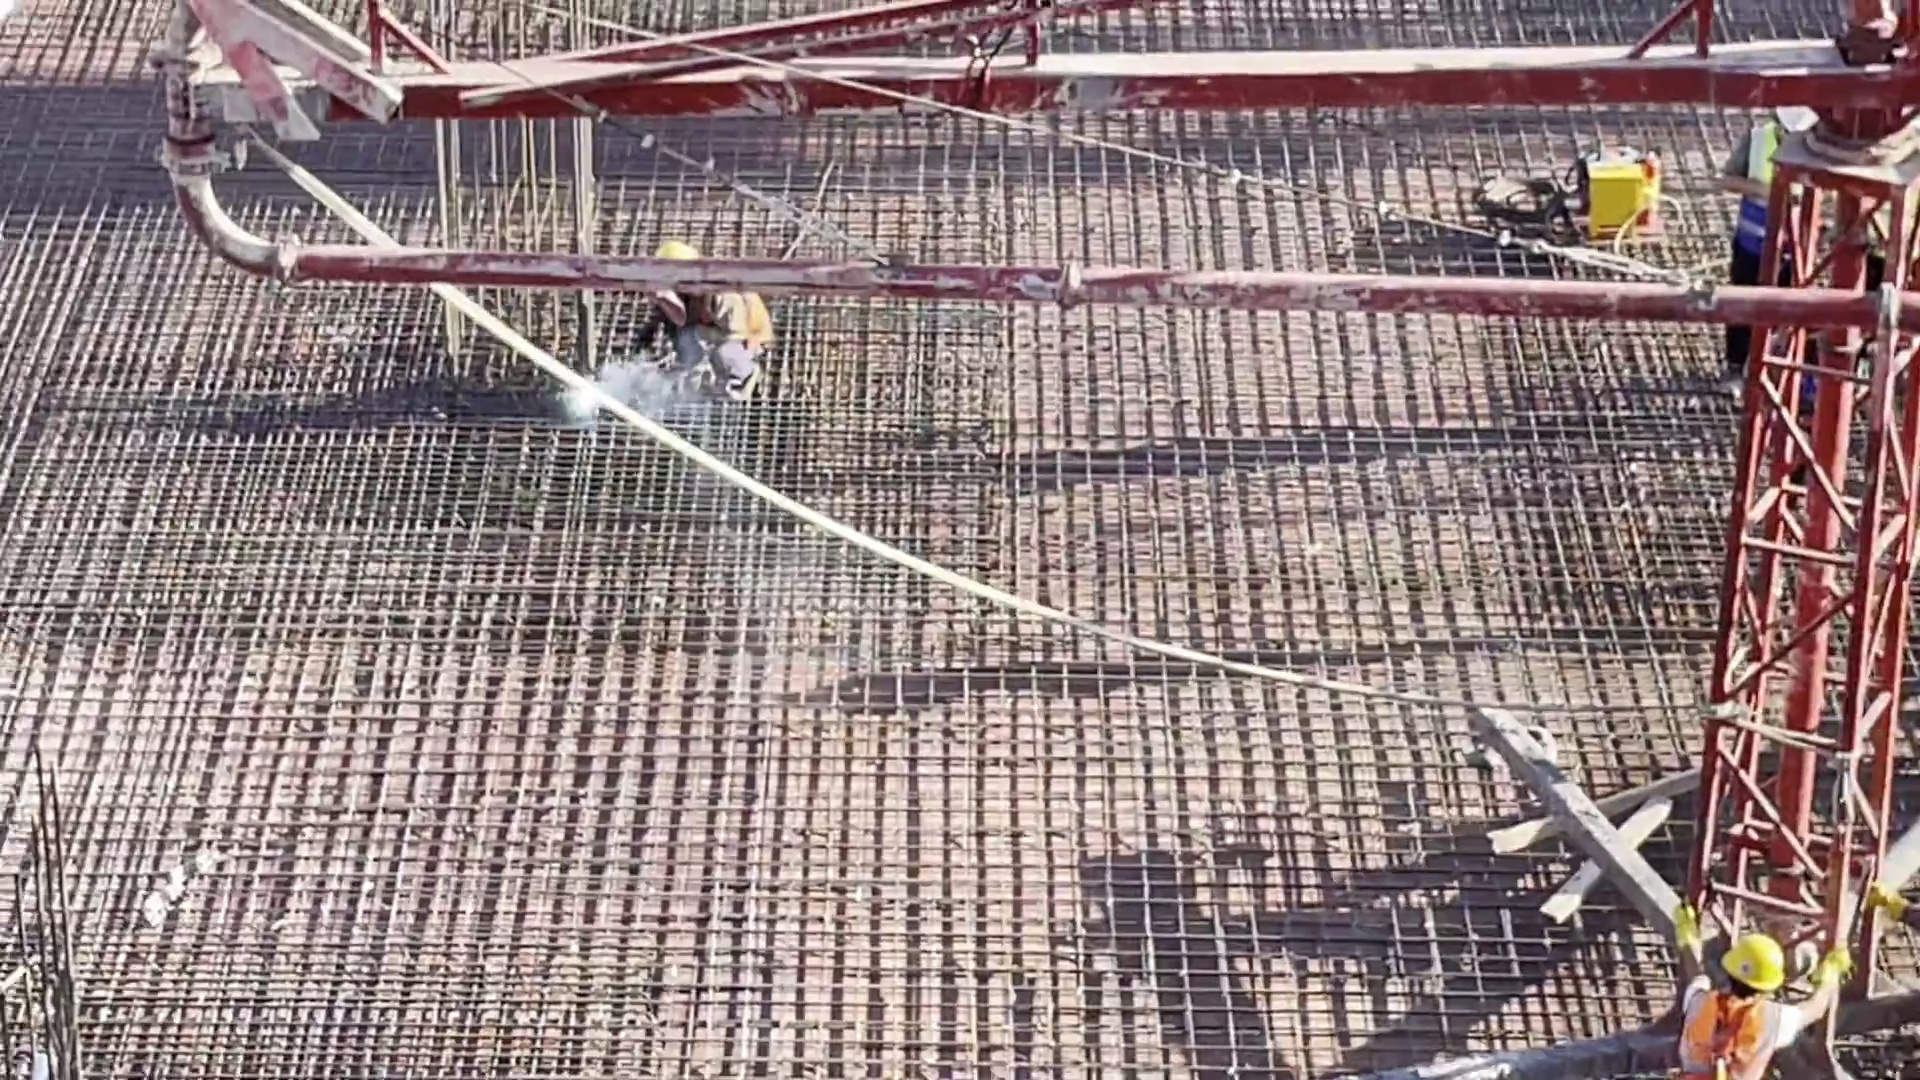helmet: (1720, 928, 1791, 991), (657, 239, 709, 265), (1776, 107, 1812, 139)
person: (1659, 898, 1850, 1080), (1712, 105, 1810, 379), (643, 246, 777, 406)
vest: (1691, 989, 1778, 1080), (683, 265, 776, 349), (1747, 131, 1775, 239)
